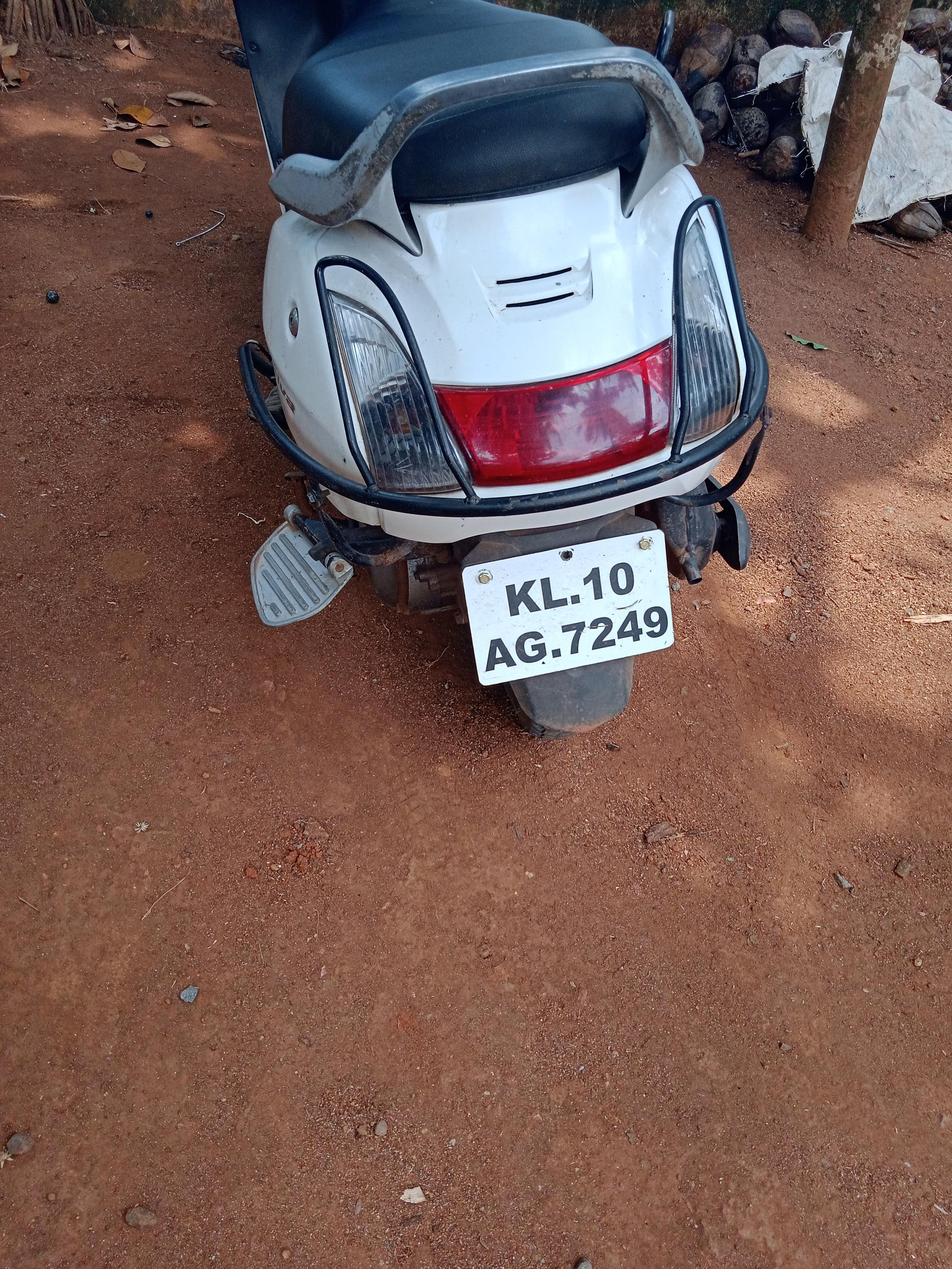number_platenumber_plate_textrotation: (461, 528, 674, 686)
